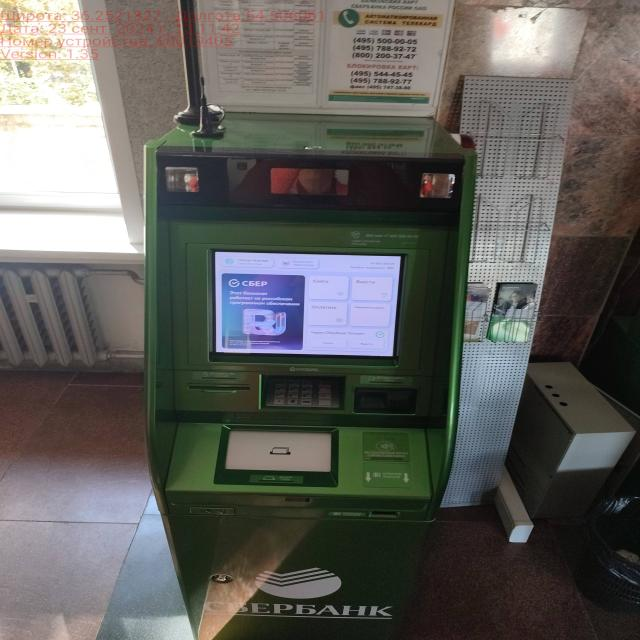bank: (134, 110, 482, 640)
